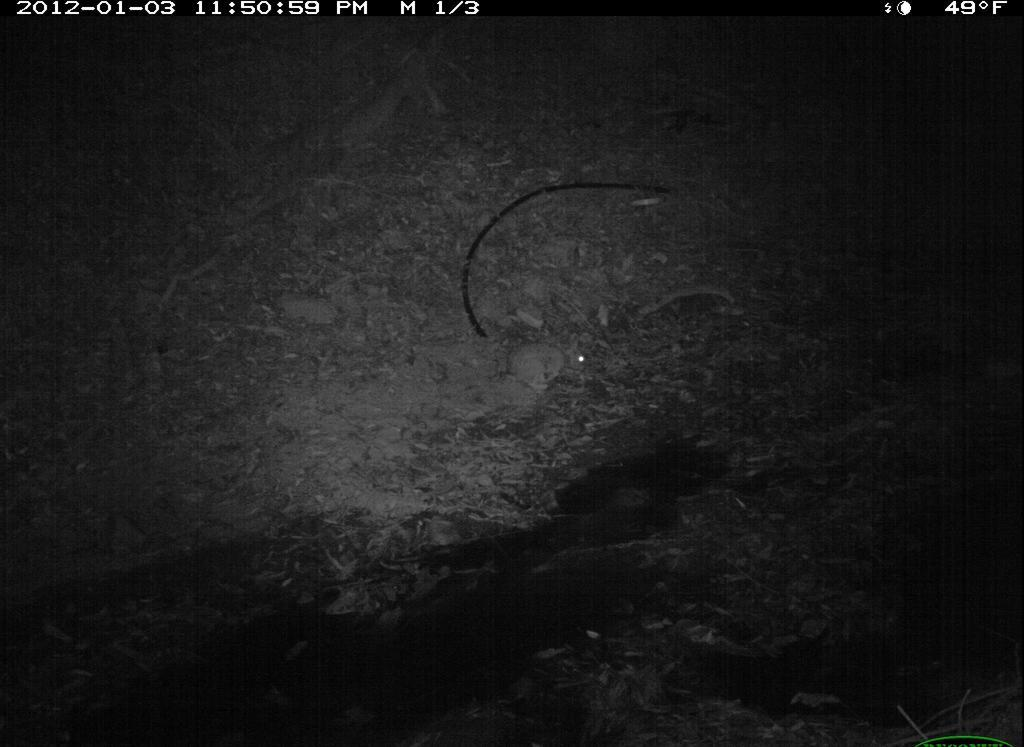rabbit: (504, 326, 594, 393)
